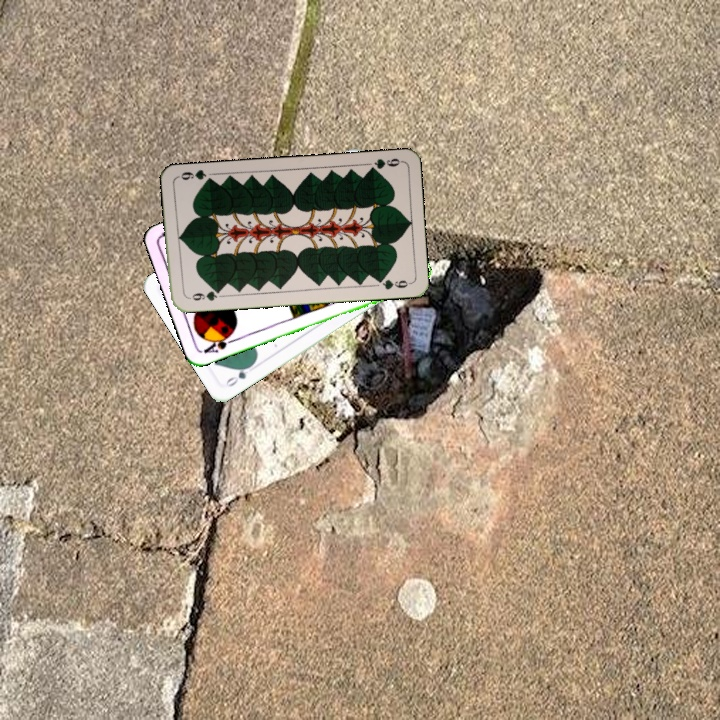G9: (364, 154, 404, 174), (184, 286, 224, 304)
GO: (221, 360, 256, 390)
SA: (199, 329, 239, 356)
